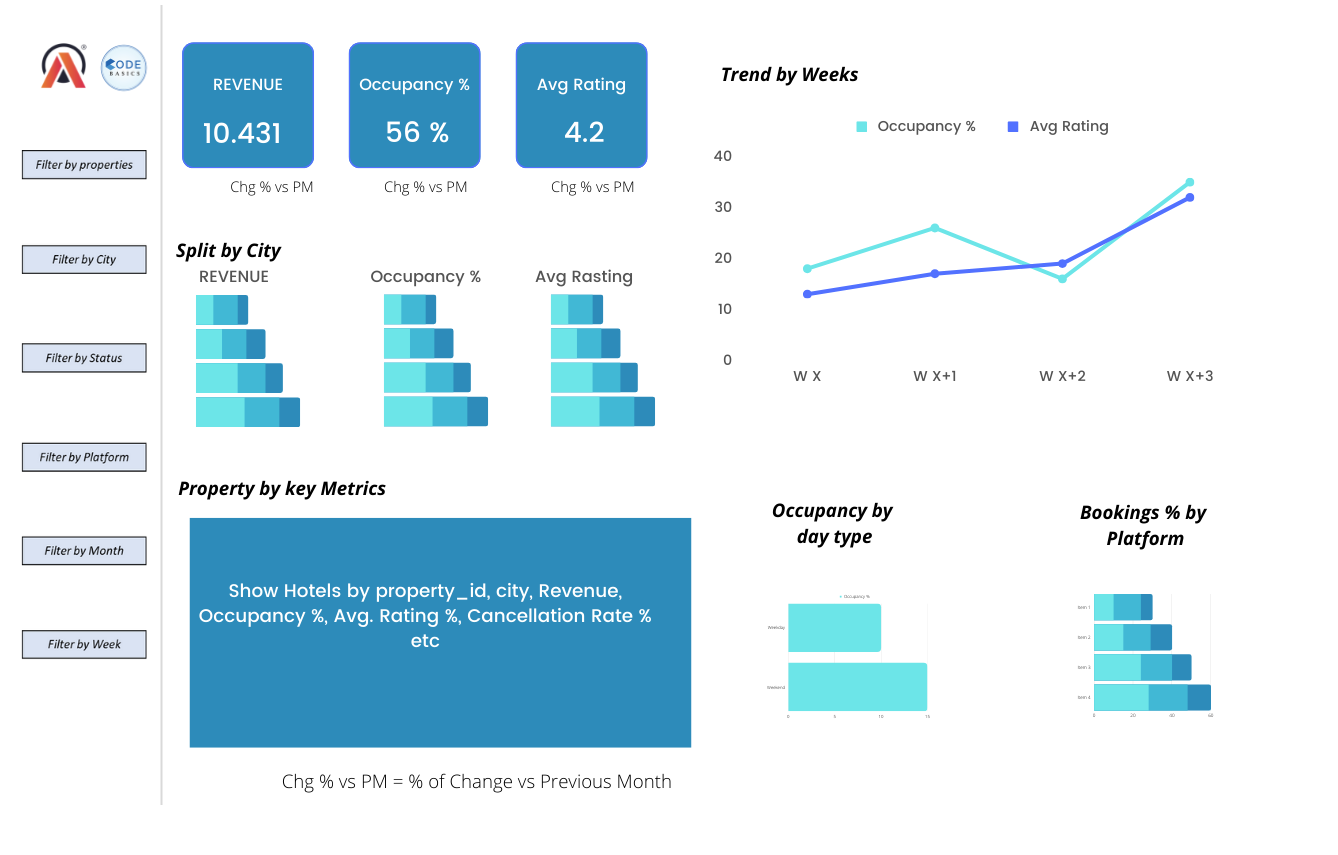

Layout of this report page (visuals, bound fields, positions):
{"tool":"powerbi","page":{"name":"Dashboard","canvas":[1280,720],"ordinal":0},"visuals":[{"type":"slicer","fields":{"Values":["dim_hotels.property_name"]},"box":[10.5,0,158.3,67.1],"z":0},{"type":"slicer","fields":{"Values":["dim_hotels.city"]},"box":[168.8,2.1,152,54.5],"z":1000},{"type":"slicer","fields":{"Values":["dim_rooms.room_class"]},"box":[320.8,0,134.2,56.6],"z":2000},{"type":"tableEx","fields":{"Values":["dim_hotels.property_id","dim_hotels.property_name","dim_hotels.city","_measures.Total_Revenue","_measures.Total_Bookings","_measures.RevPAR","_measures.Occupancy %","_measures.ADR","_measures.DBRN","_measures.DSRN","_measures.DURN","_measures.Realisation_Percent"]},"box":[455.2,302.3,824.8,352],"z":3000},{"type":"textbox","box":[19.4,676.4,1247.7,32.3],"z":4000},{"type":"slicer","fields":{"Values":["dim_date.mmm yy"]},"box":[455.2,0,226.7,56.2],"z":5000},{"type":"slicer","fields":{"Values":["dim_date.Week_num"]},"box":[664.4,0,602.7,56.2],"z":6000},{"type":"card","title":"Revenue","fields":{"Values":["_measures.Total_Revenue"]},"box":[10.1,85.7,112.4,63.6],"z":7000},{"type":"card","title":"ADR","fields":{"Values":["_measures.ADR"]},"box":[142.8,85.7,102.3,63.6],"z":8000},{"type":"card","title":"Occupancy","fields":{"Values":["_measures.Occupancy %"]},"box":[19.4,179.7,110.6,61.7],"z":9000},{"type":"card","title":"RevPar","fields":{"Values":["_measures.RevPAR"]},"box":[122.6,180.6,150.2,61.7],"z":10000},{"type":"card","title":"DBRN","fields":{"Values":["_measures.DBRN"]},"box":[272.8,180.6,132.7,61.7],"z":11000},{"type":"card","title":"Cancellation%","fields":{"Values":["_measures.Cancellation_Percentage"]},"box":[272.8,85.7,132.7,63.6],"z":12000},{"type":"tableEx","fields":{"Values":["dim_date.day_type","_measures.RevPAR","_measures.Occupancy %","_measures.ADR","_measures.Realisation_Percent"]},"box":[19.4,282,425.7,92.2],"z":13000},{"type":"lineStackedColumnComboChart","title":"Total Revenue by booking platform","fields":{"Category":["fact_bookings.booking_platform"],"Y":["_measures.Total_Revenue"]},"box":[19.4,395.3,394.4,250.7],"z":14000},{"type":"lineStackedColumnComboChart","title":"Realisation Percentage and ADR by booking platform","fields":{"Category":["fact_bookings.booking_platform"],"Y2":["_measures.ADR"],"Y":["_measures.Realisation_Percent"]},"box":[462.6,67.3,329,223.9],"z":15000},{"type":"lineChart","title":"Trends by Key Metrics","fields":{"Category":["dim_date.Week_num"],"Y":["_measures.RevPAR","_measures.ADR"],"Y2":["_measures.Occupancy %"]},"box":[791.6,67.3,210.1,223.9],"z":16000},{"type":"donutChart","fields":{"Category":["dim_hotels.property_name"],"Y":["_measures.Avg Rating"]},"box":[1026.6,56.2,240.5,235],"z":17000}]}

Visuals, with their boxes on the page's 1280x720 design canvas (x1, y1, x2, y2). These are canvas units, not pixel positions in the 1338x855 screenshot, which may show the page scaled, cropped or inside an application window:
slicer - dim_hotels.property_name: 10, 0, 169, 67
slicer - dim_hotels.city: 169, 2, 321, 57
slicer - dim_rooms.room_class: 321, 0, 455, 57
tableEx - dim_hotels.property_id x dim_hotels.property_name: 455, 302, 1280, 654
textbox: 19, 676, 1267, 709
slicer - dim_date.mmm yy: 455, 0, 682, 56
slicer - dim_date.Week_num: 664, 0, 1267, 56
"Revenue" card: 10, 86, 122, 149
"ADR" card: 143, 86, 245, 149
"Occupancy" card: 19, 180, 130, 241
"RevPar" card: 123, 181, 273, 242
"DBRN" card: 273, 181, 406, 242
"Cancellation%" card: 273, 86, 406, 149
tableEx - dim_date.day_type x _measures.RevPAR: 19, 282, 445, 374
"Total Revenue by booking platform" lineStackedColumnComboChart: 19, 395, 414, 646
"Realisation Percentage and ADR by booking platform" lineStackedColumnComboChart: 463, 67, 792, 291
"Trends by Key Metrics" lineChart: 792, 67, 1002, 291
donutChart - dim_hotels.property_name x _measures.Avg Rating: 1027, 56, 1267, 291
